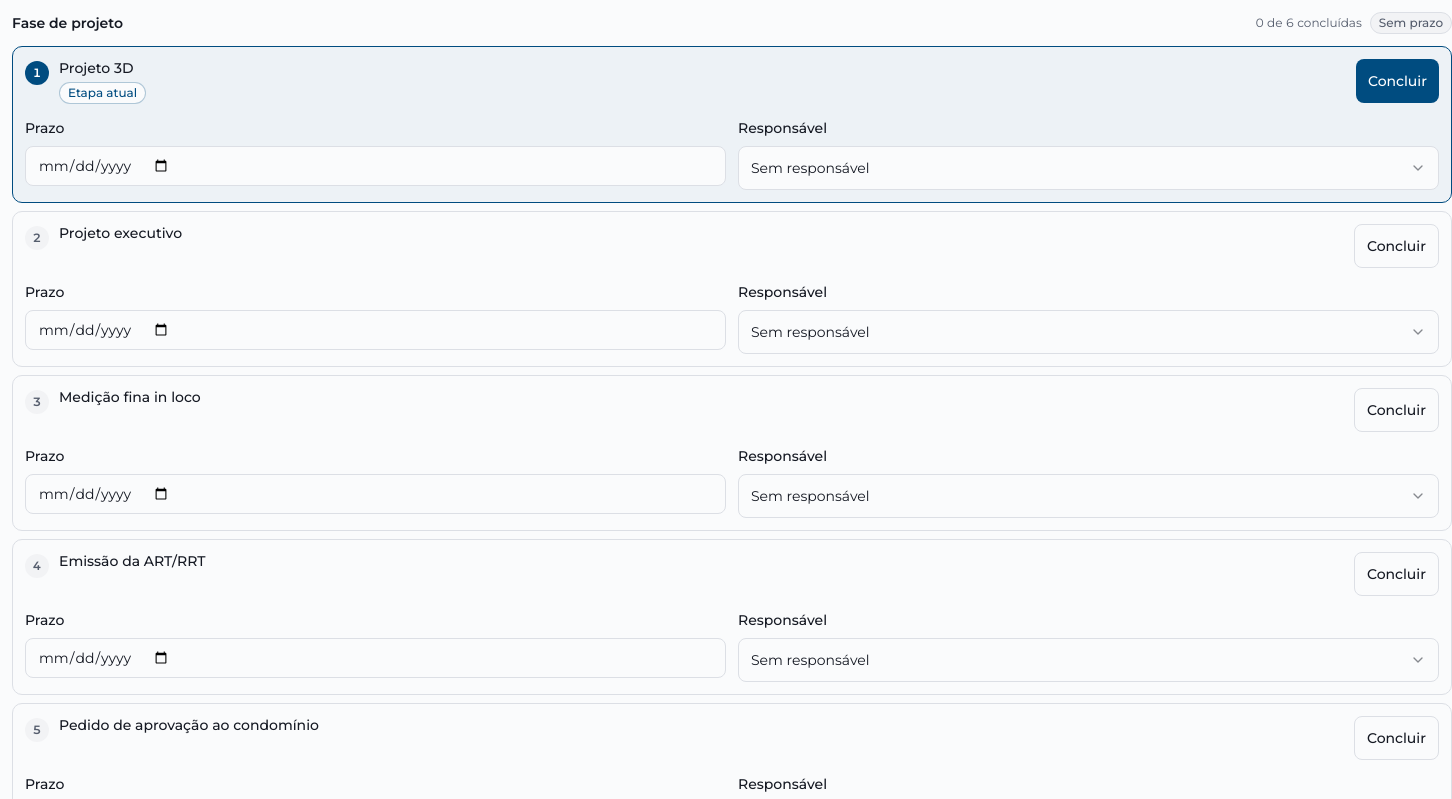
Fase de projeto: concluir e reabrir › um segundo toque em 'Confirmar' não grava de novo; o formulário fecha quando a etapa aparece concluída
Later steps or results of the test are not shown.
Click the button "Concluir" in the row of "Etapa atual": (1398, 81) [1356,59,1439,103]
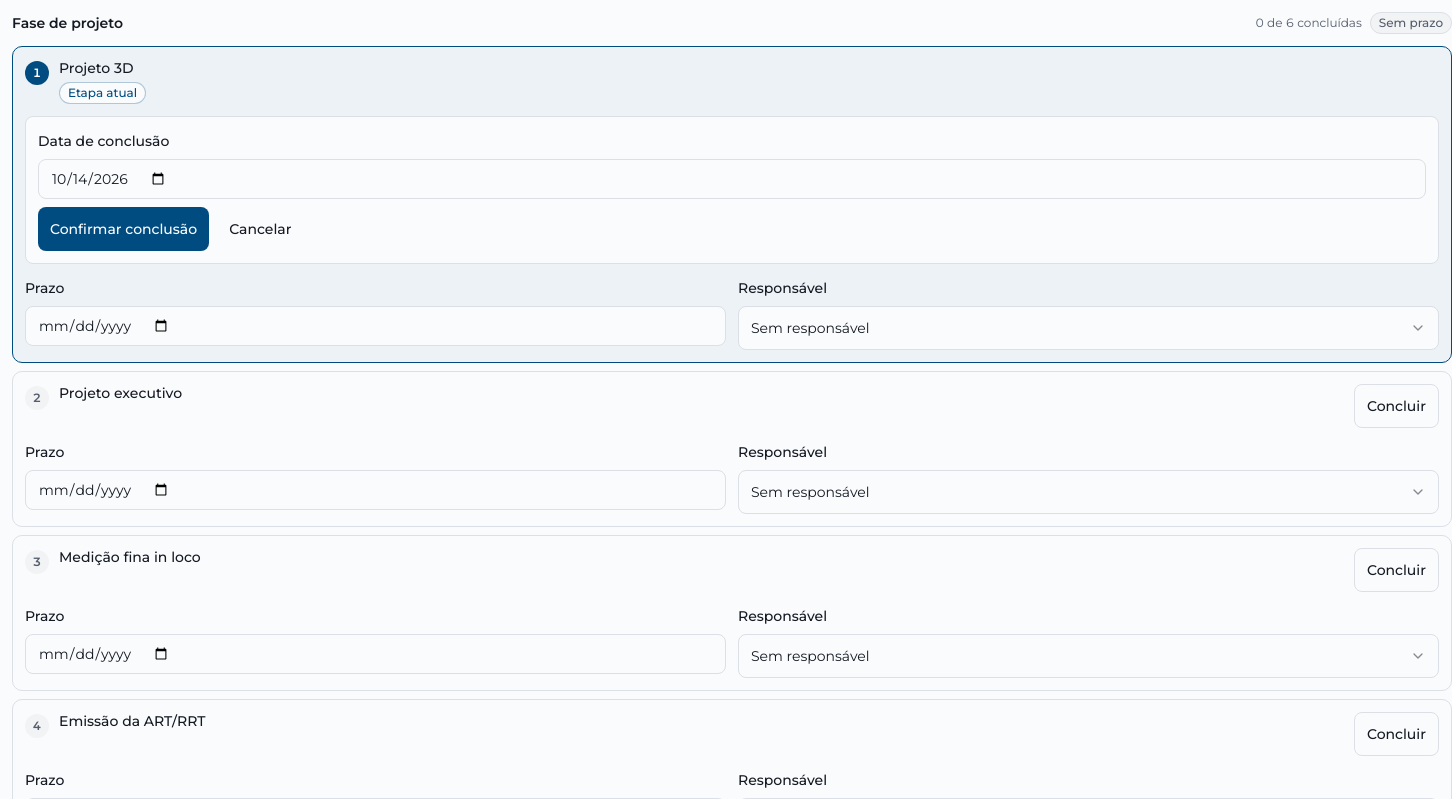
Click the button "Confirmar conclusão": (124, 229) [38,207,209,251]
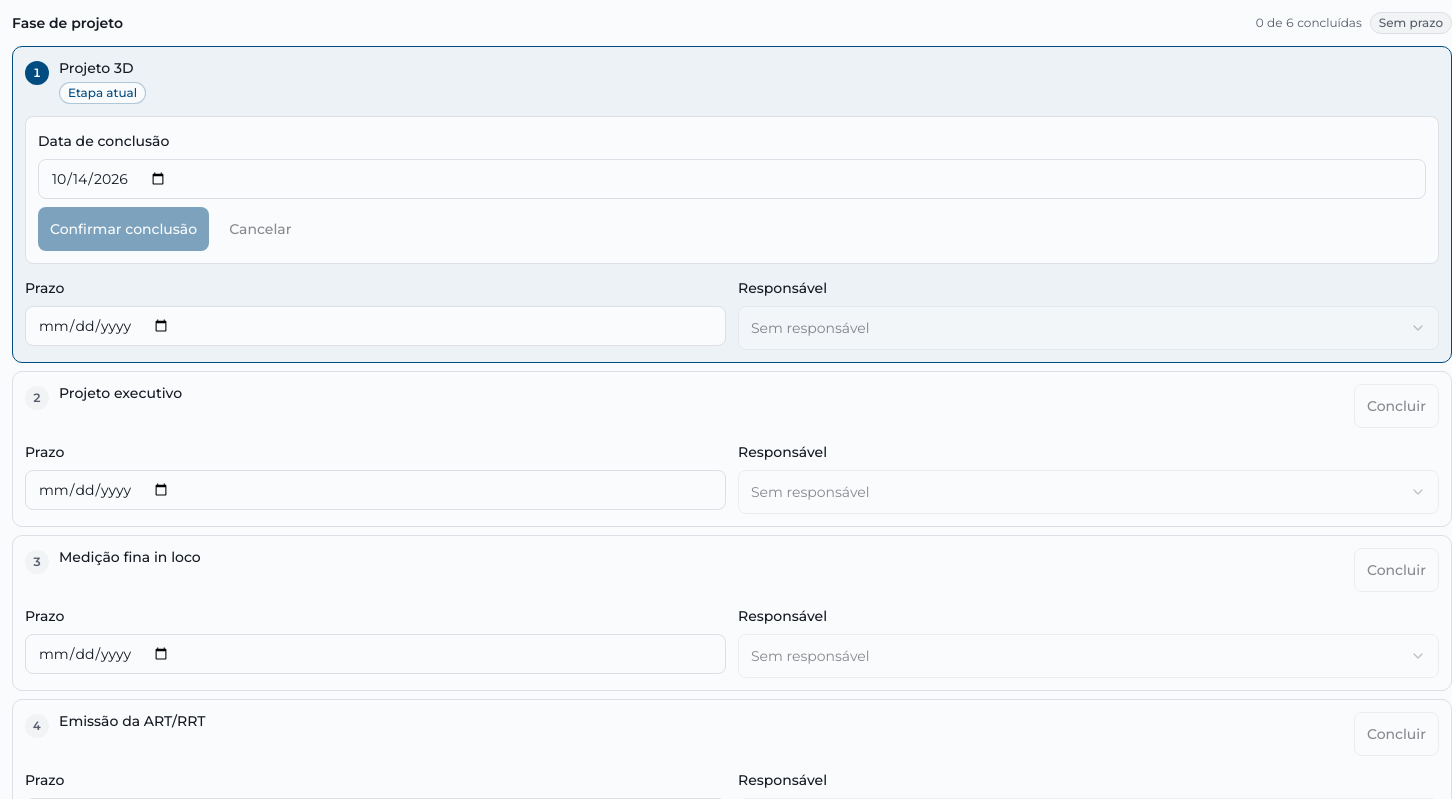
Expected: the button "Confirmar conclusão" is disabled
Click the button "Confirmar conclusão": (124, 229) [38,207,209,251]
Press Enter in the date field labelled "Data de conclusão", box [38,159,1426,199]
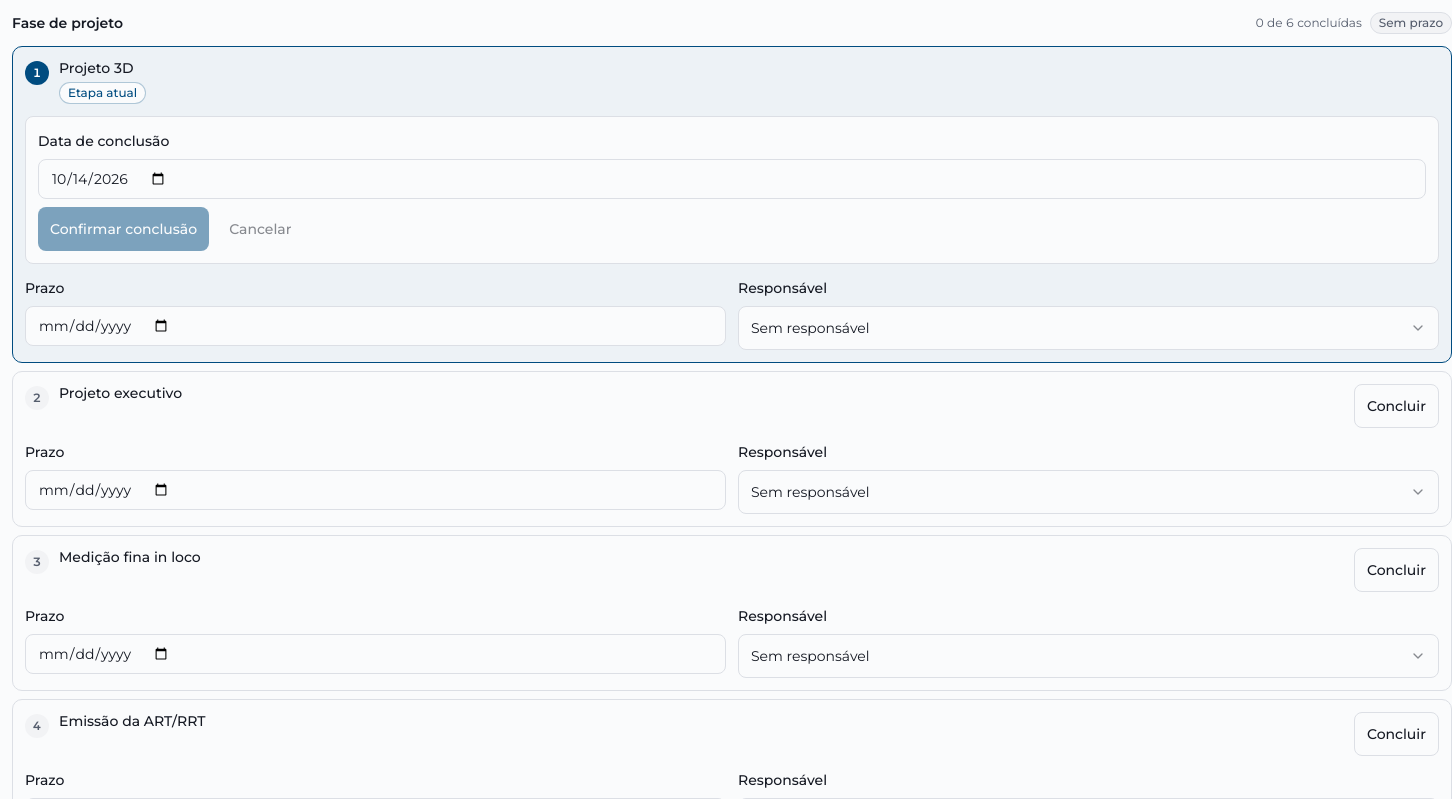
Expected: the button "Confirmar conclusão" is disabled, [38,207,209,251]
